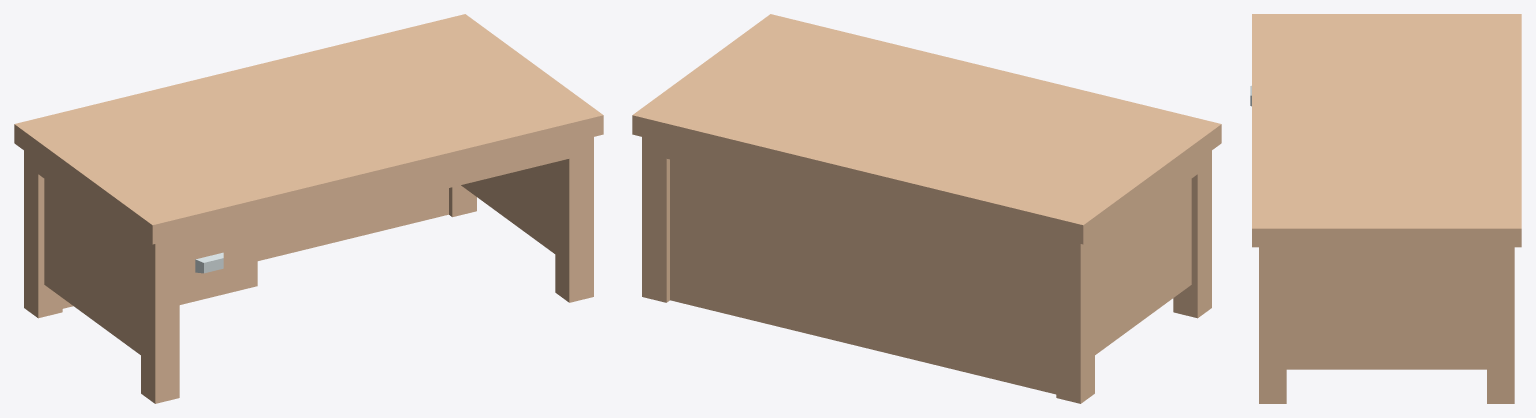
The model's file is desk.glb.
The picture shows the model from 3 angles, left to right: view 1: azimuth 30°, elevation 25°; view 2: azimuth 150°, elevation 25°; view 3: azimuth 270°, elevation 25°; orthographic projection. The views are drawn at different scales.
Parts seen in each view (by area): view 1: desk(Clone), drawer; view 2: desk(Clone); view 3: desk(Clone).
Boxes of the visible parts, bbox=[...] form: desk(Clone): bbox=[14, 14, 603, 403]; drawer: bbox=[179, 239, 239, 285]; desk(Clone): bbox=[632, 14, 1221, 403]; desk(Clone): bbox=[1252, 14, 1521, 403].
Bounding box in the file's own units: 0.7345 × 0.2844 × 0.3923.
